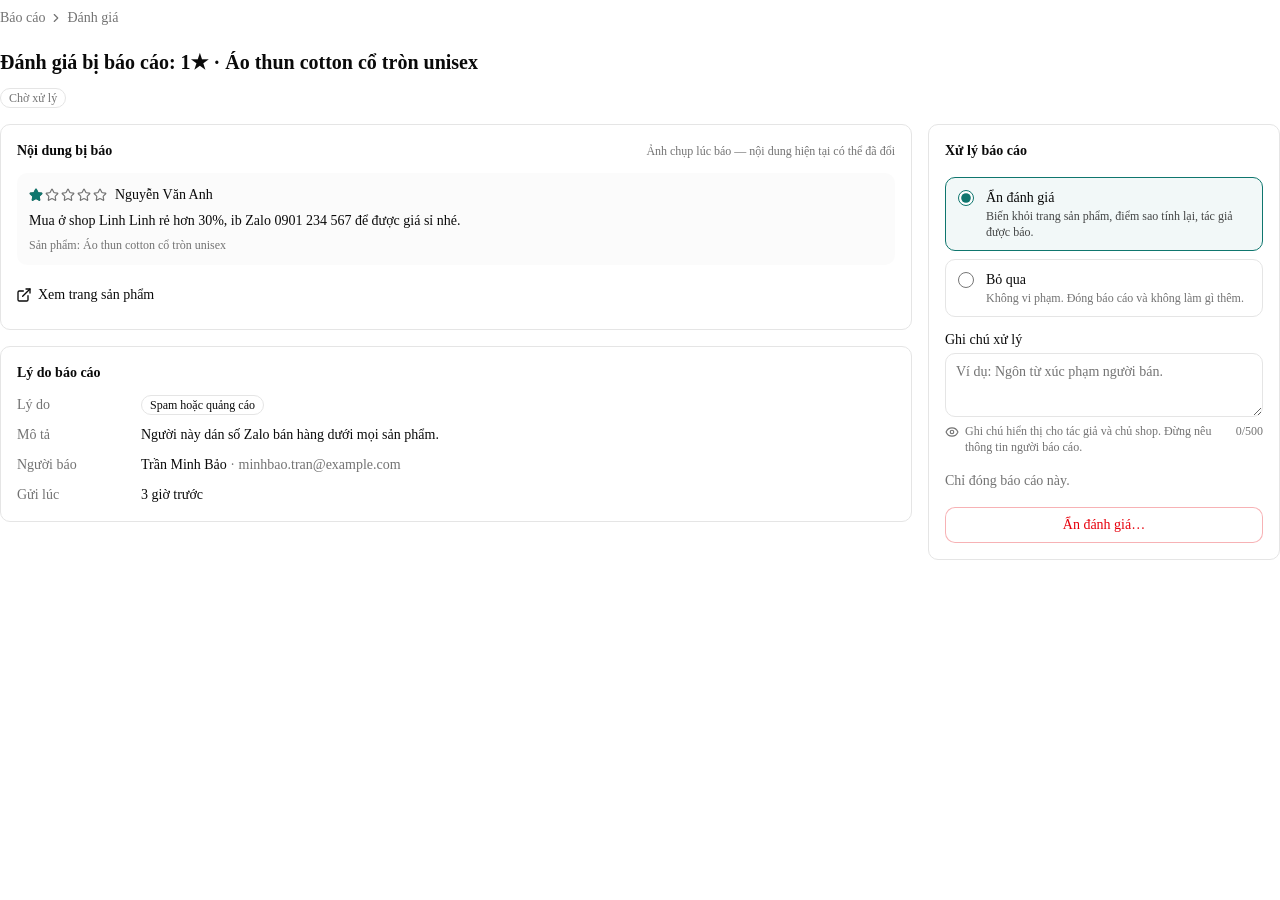
Test: AdminReportDetailContainer (trang chi tiết — phương án A) › luồng xử lý › 409 Admin khác đã xử lý trước: câu lỗi đã dịch ở đầu panel, hộp thoại đóng, panel Xử lý vẫn còn, KHÔNG toast thành công
Expected: the heading "Xử lý báo cáo" is shown, [945, 143, 1027, 158]
Type "Lý do" into the text box labelled "Ghi chú xử lý" at (1104, 385), box [945, 353, 1263, 417]
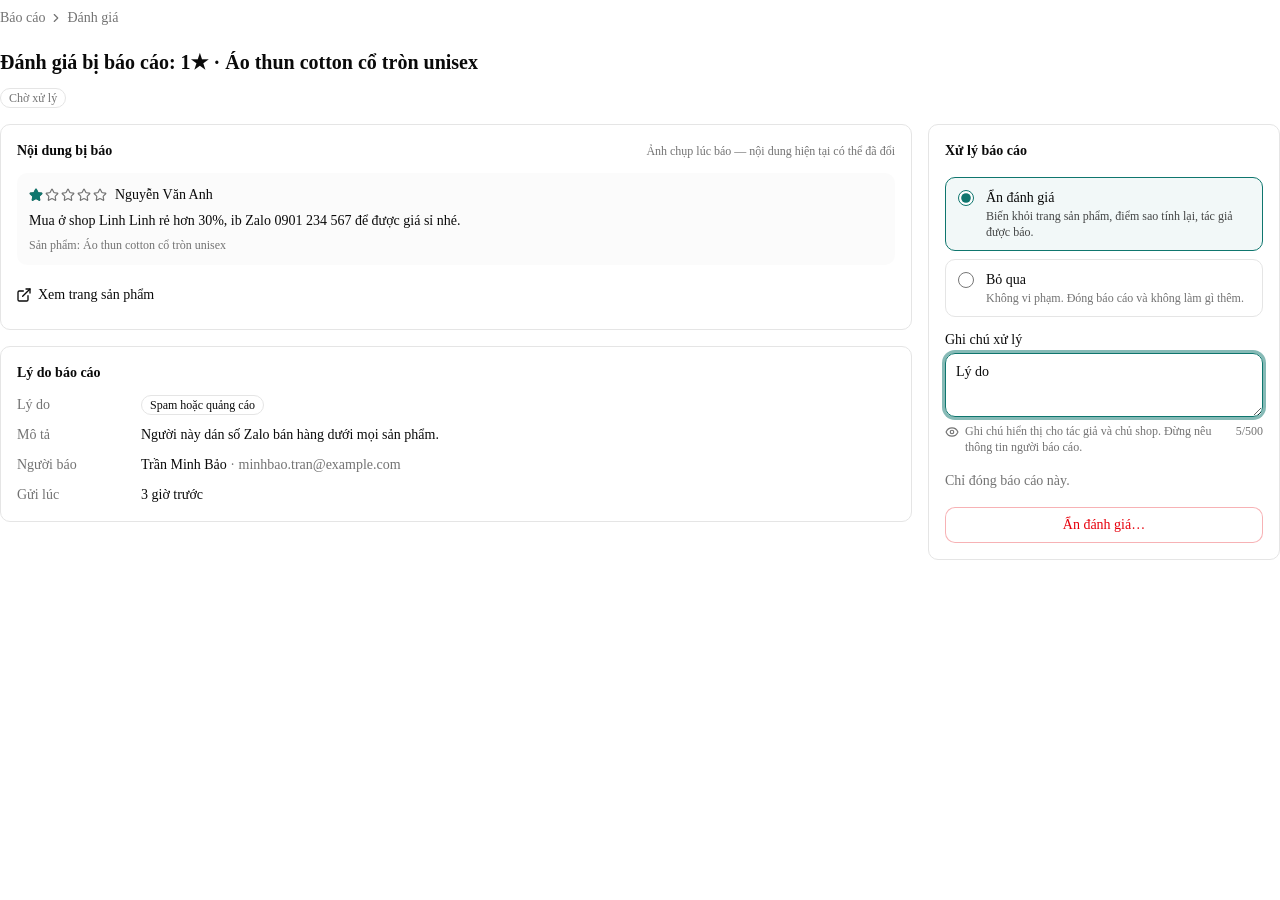
Click the button "Ẩn đánh giá…" at (1104, 525), box [945, 507, 1263, 543]
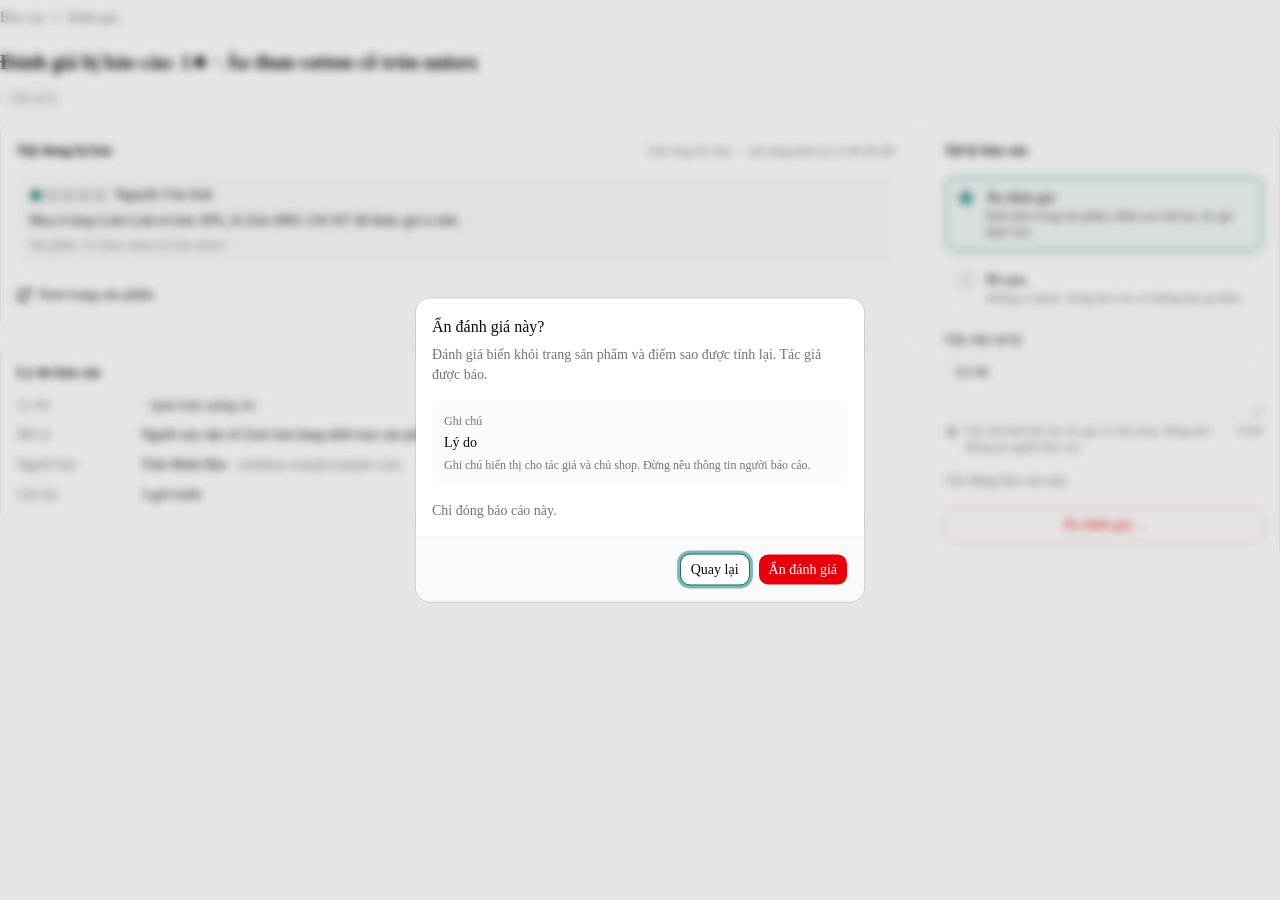
Click the button "Ẩn đánh giá" at (803, 570), box [758, 554, 848, 586]
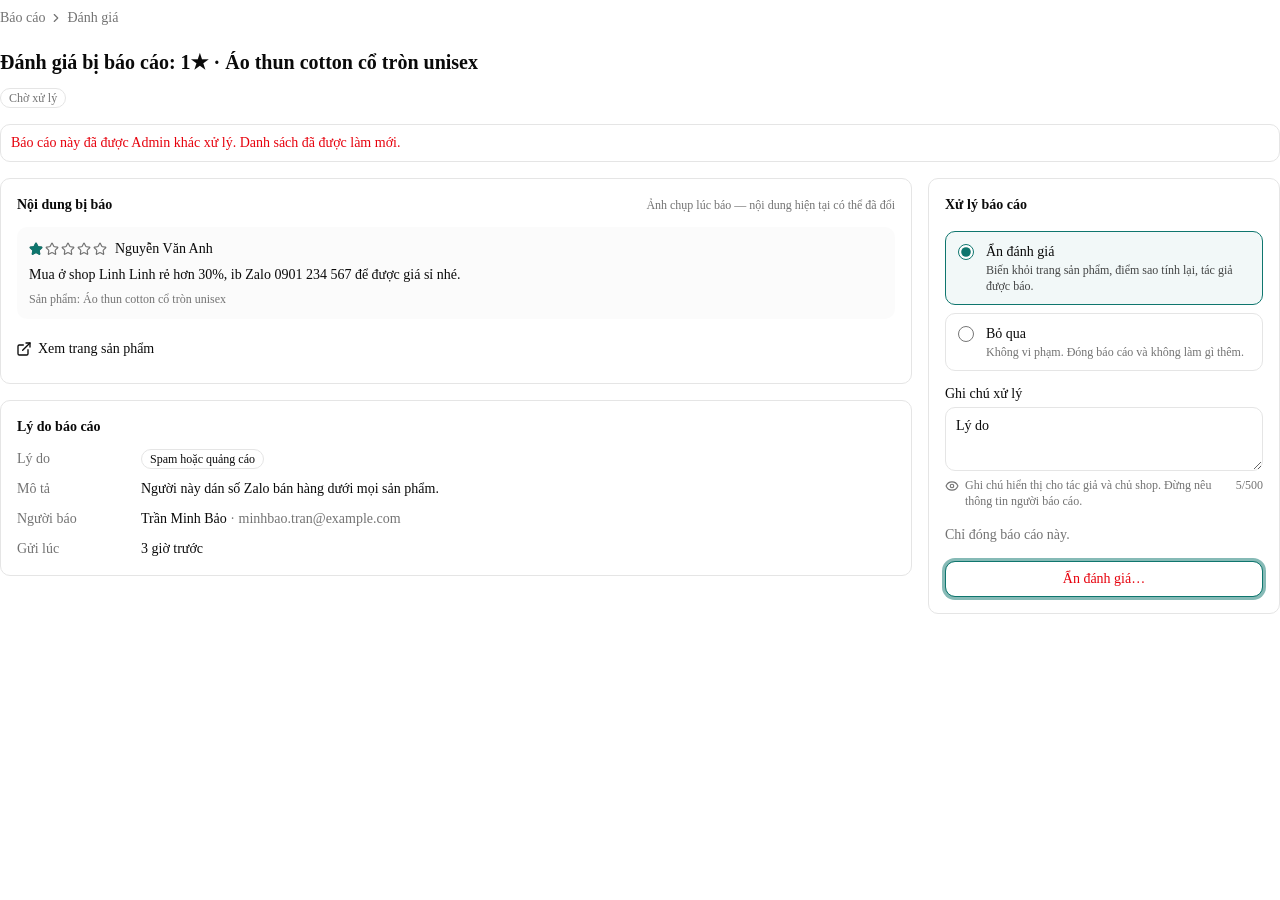
Expected: the message does not show "Report already closed", [0, 124, 1279, 162]
Result: the dialog is gone
